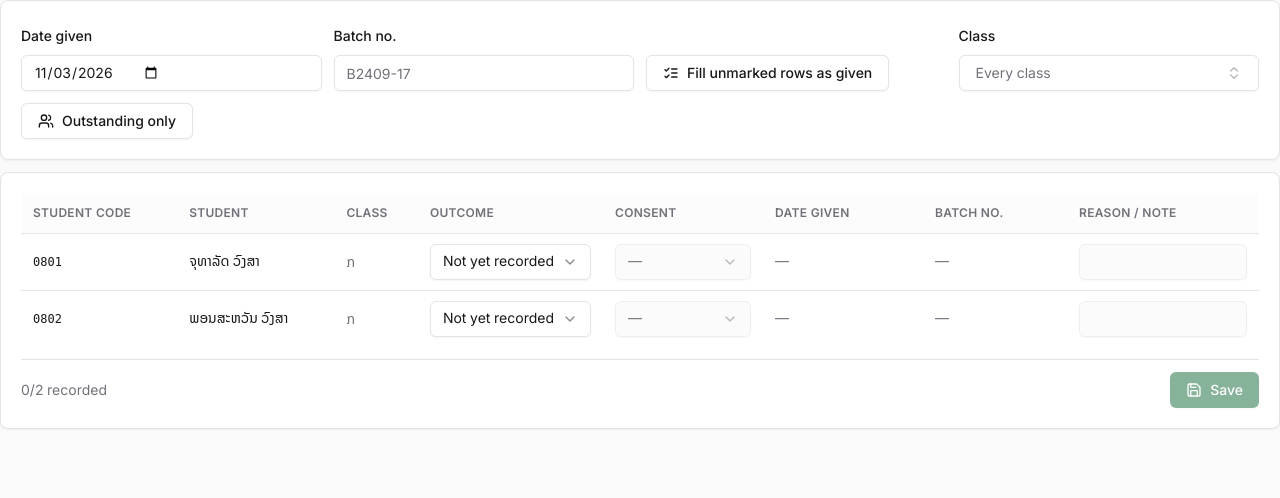
Test: DoseSheet › blocks a dose marked given until it has consent
Expected: the text "ຈຸທາລັດ ວົງສາ" is shown, [189, 249, 260, 272]
Click the dropdown labelled "Not yet recorded" in the row of "0801" at (510, 262), box [430, 244, 591, 280]
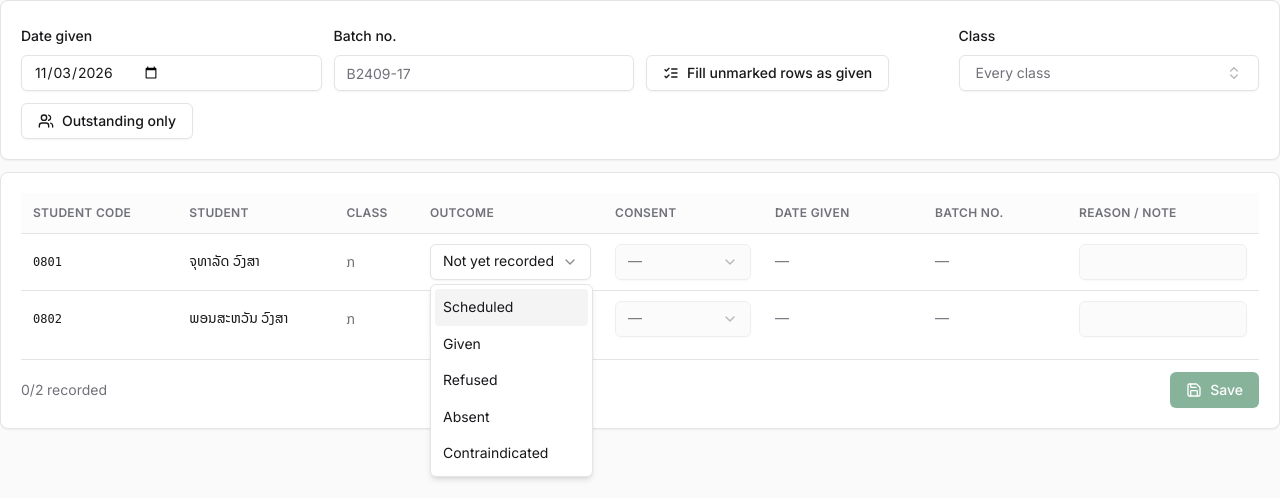
Click the option "Given" at (462, 343), box [443, 332, 481, 354]
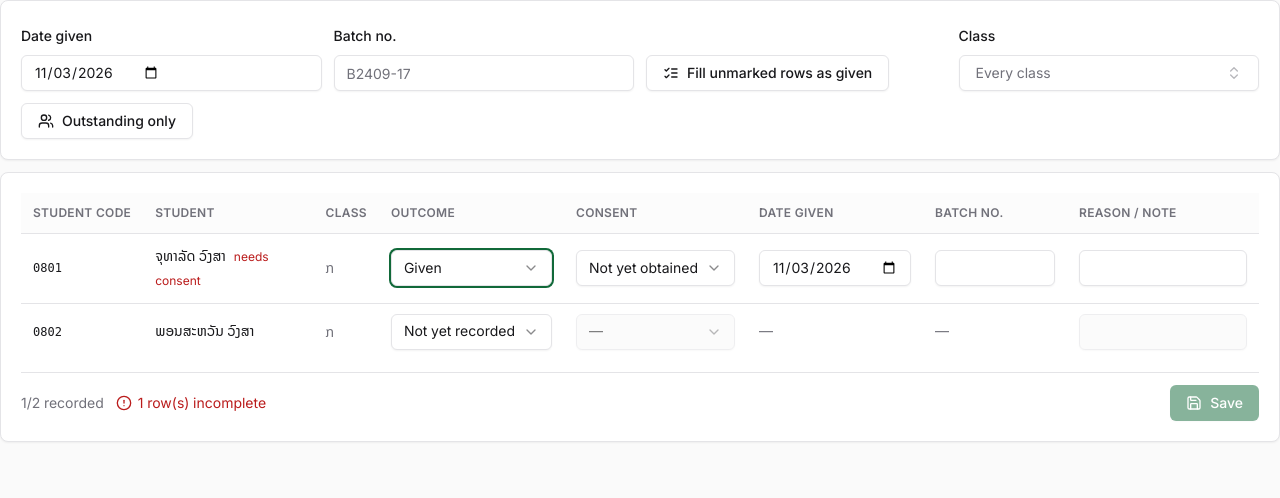
Expected: the button "Save" is disabled, [1170, 384, 1259, 420]
Result: the text "needs consent" is shown at [155, 246, 269, 291]
Click the dropdown labelled "Not yet obtained" at (656, 268), box [576, 250, 735, 286]
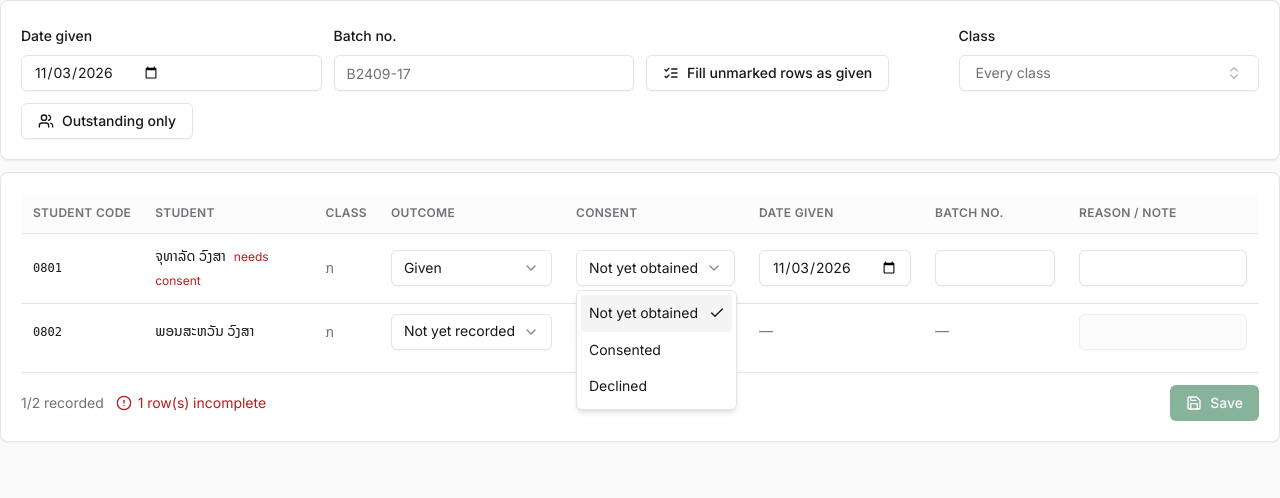
Click the option "Consented" at (625, 349), box [589, 338, 661, 360]
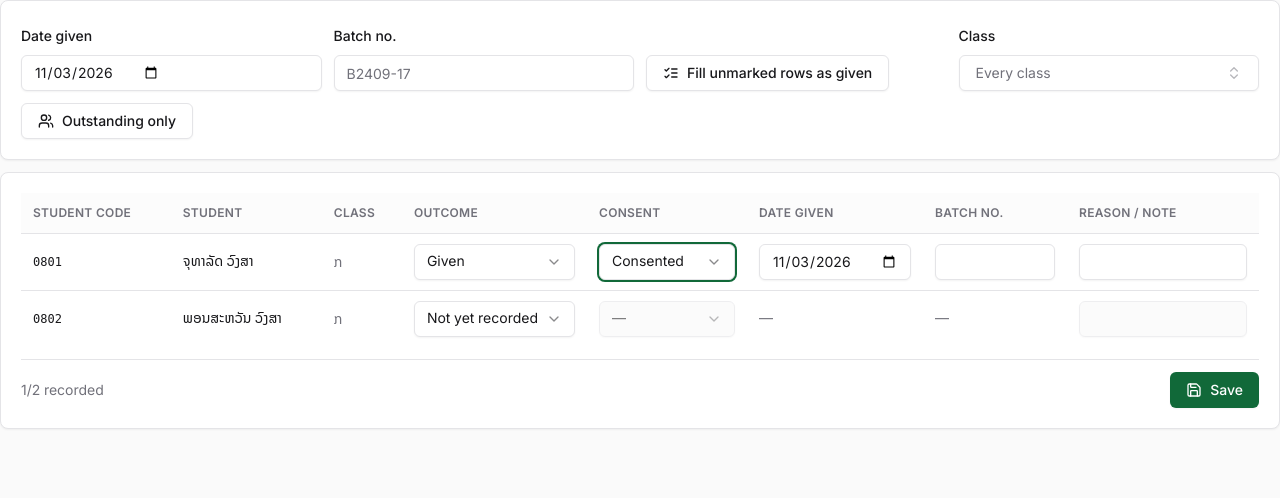
Result: the text "needs consent" is gone
Result: the button "Save" is enabled at [1170, 372, 1259, 408]
